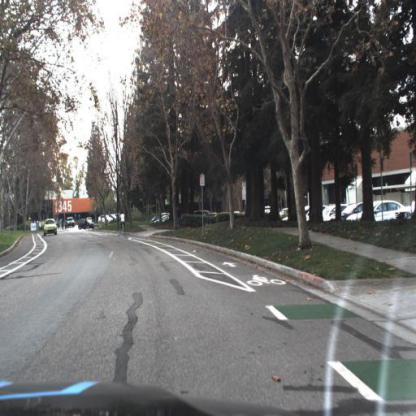biker: (119, 210, 127, 236)
car: (355, 195, 397, 222), (44, 219, 58, 237), (80, 219, 94, 231)
pedestrian: (176, 204, 184, 231), (58, 218, 66, 232)
